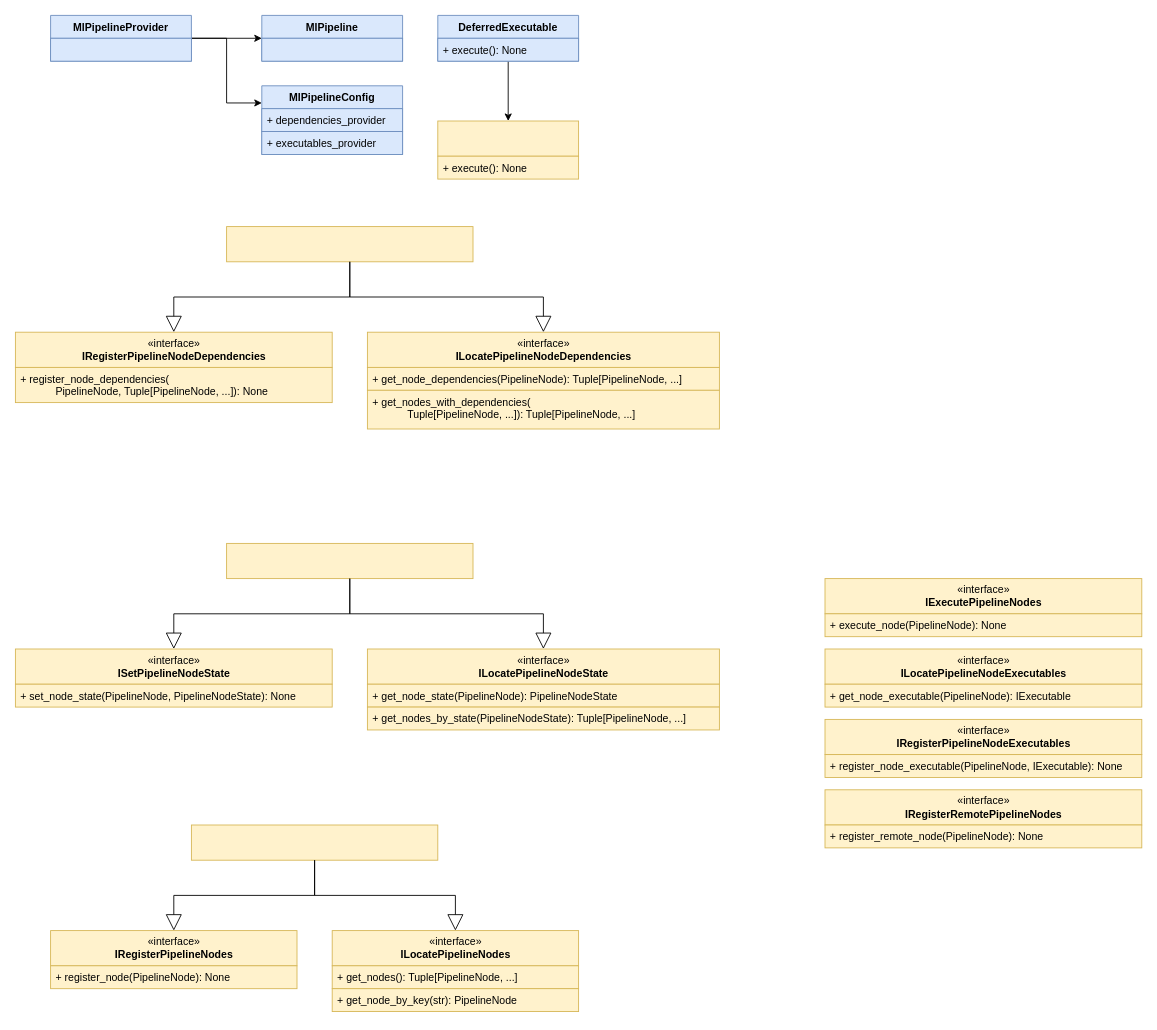
Some shapes in this 1157 by 1030 pixel diagram are drawn without their labels. The shapes that lost their labels are listed below. From the top down, each one's centre as x and y in pixels, then its label:
At [120,49]: "+ get_pipeline(): MlPipeline".
At [332,49]: "+ tick(): None".
At [508,138]: "«interface» IExecutable".
At [349,244]: "«interface» IManagePipelineNodeDependencies".
At [349,561]: "«interface» IManagePipelineNodeState".
At [314,842]: "«interface» IManagePipelineNodes".
